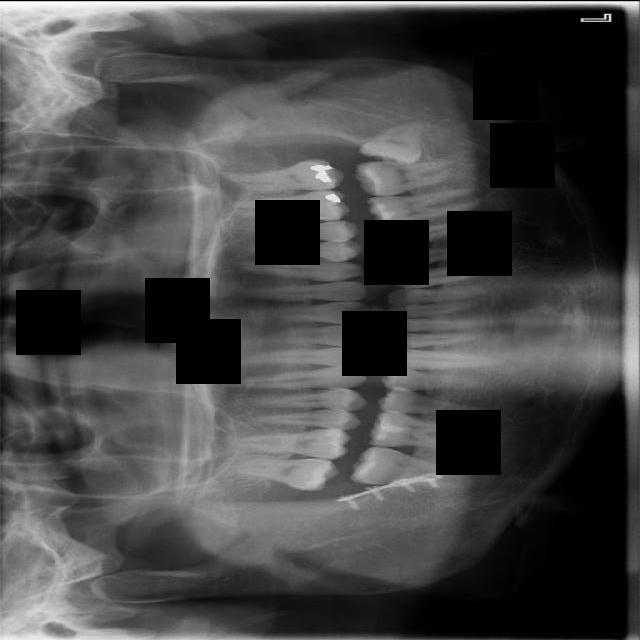52: (295, 184, 353, 225), (367, 409, 421, 446), (287, 158, 345, 190)
73: (570, 32, 591, 40)
BioHorizons Implant: (232, 157, 346, 193)
Biomet 3i Implant: (359, 121, 422, 165)
Blue Sky Bio Implant: (354, 160, 449, 196)
Caries: (237, 457, 341, 491)
Implant: (349, 443, 452, 490)
